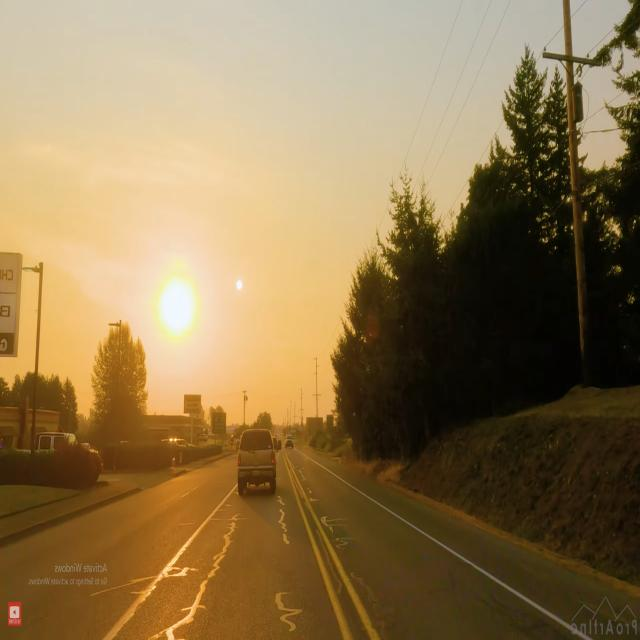sun: (150, 262, 206, 351)
